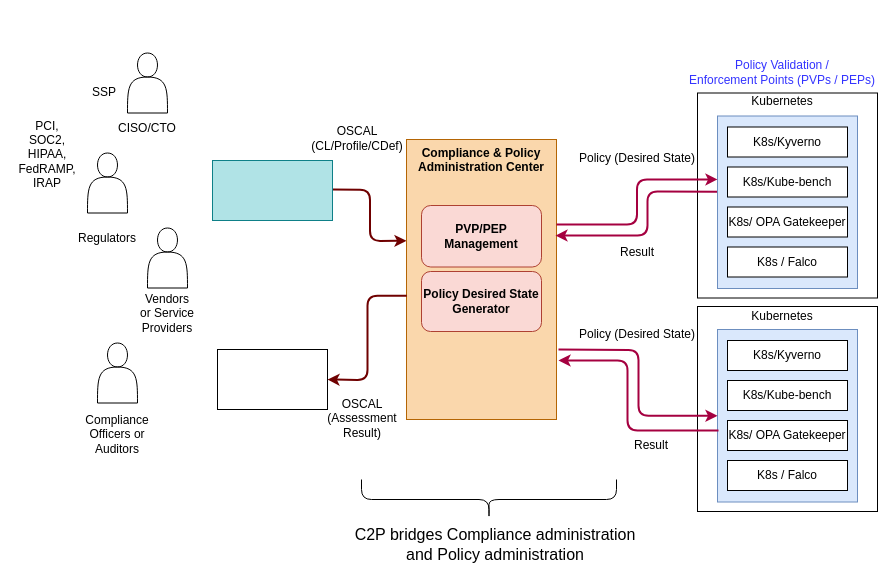
This 895x587 diagram has some shape labels left out. The shapes that lost their labels are listed below. From the top down, each one's centre as x and y in pixels, then its label:
the point at 272,190: Trestle
the point at 272,379: GRC
